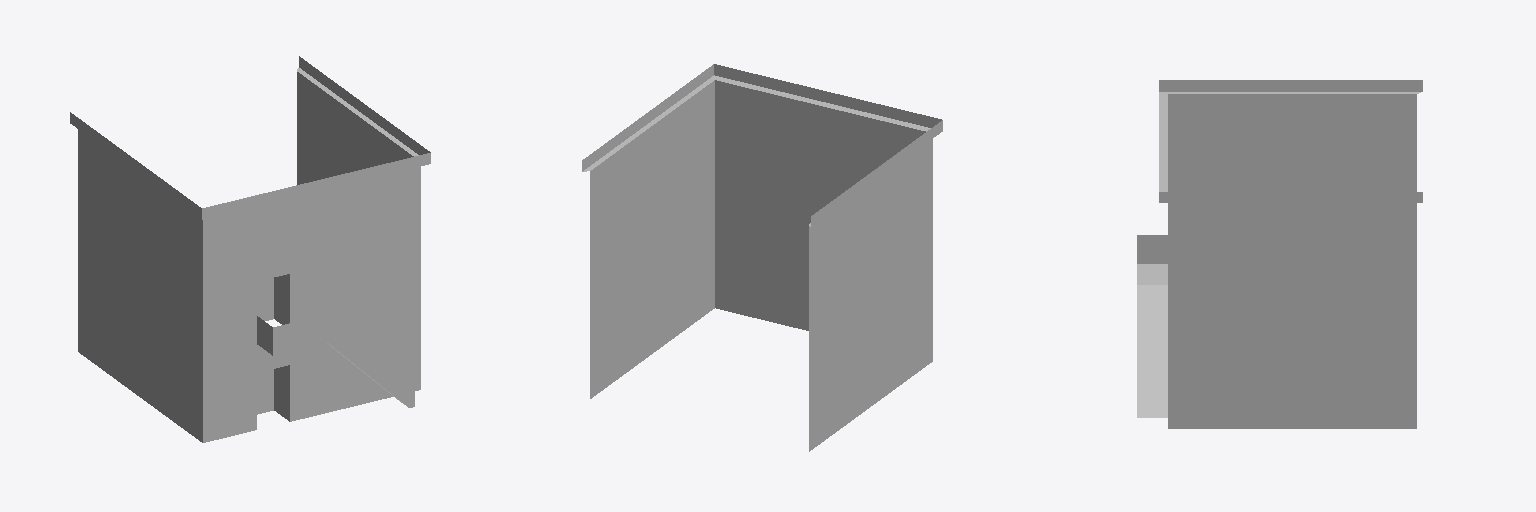
File: industry_build_4.obj
3 views of the same model, side by side, from view 1: azimuth 30°, elevation 25°; view 2: azimuth 150°, elevation 25°; view 3: azimuth 270°, elevation 25° (orthographic).
Parts seen in each view (by area): view 1: IndustryBuild4_00; view 2: IndustryBuild4_00; view 3: IndustryBuild4_00.
Part boxes in pixels (bbox=[...]): IndustryBuild4_00: bbox=[70, 56, 430, 442]; IndustryBuild4_00: bbox=[582, 64, 942, 451]; IndustryBuild4_00: bbox=[1137, 80, 1422, 428].
Bounding box in the file's own units: 8.4 × 8.4 × 9.1.